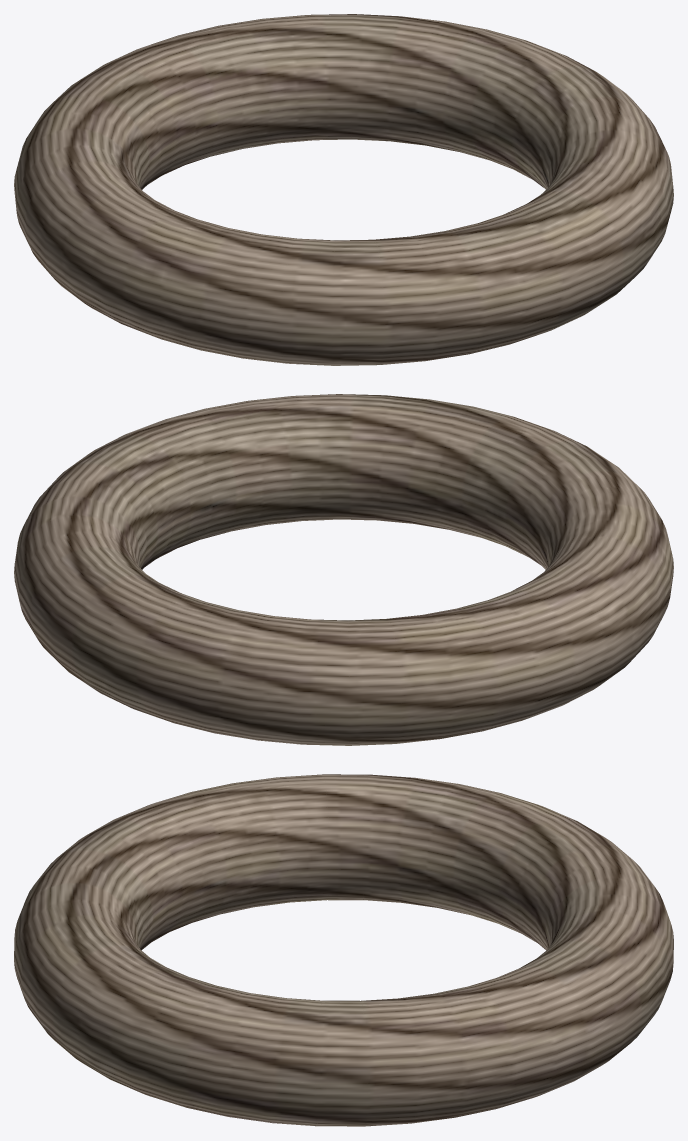
Rendered from Rope1F.fbx.
3 views of the same model, one above another, from view 1: azimuth 30°, elevation 25°; view 2: azimuth 150°, elevation 25°; view 3: azimuth 270°, elevation 25° (orthographic).
Parts seen in each view (by area): view 1: pasted__pTorus1; view 2: pasted__pTorus1; view 3: pasted__pTorus1.
Part boxes in pixels (bbox=[...]): pasted__pTorus1: bbox=[14, 14, 673, 365]; pasted__pTorus1: bbox=[14, 394, 673, 745]; pasted__pTorus1: bbox=[14, 774, 673, 1126].
Size of the model in its own units: 0.7996 by 0.1528 by 0.7996.
